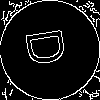D: (25, 25, 76, 68)
